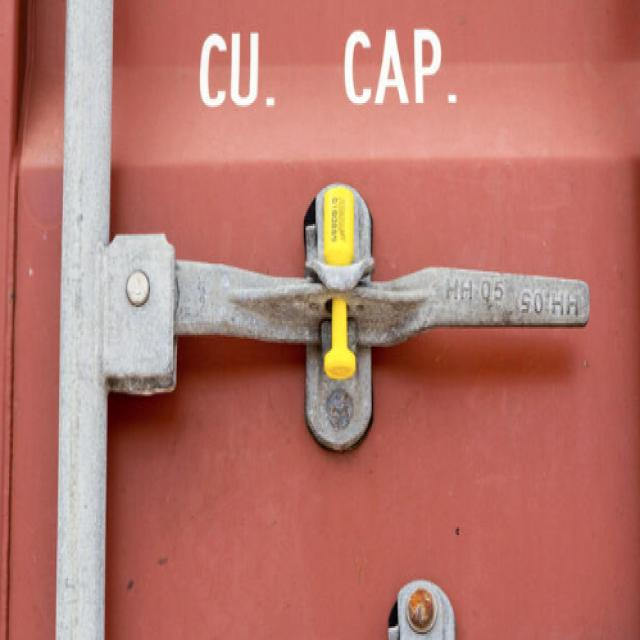seal: (318, 182, 364, 379)
